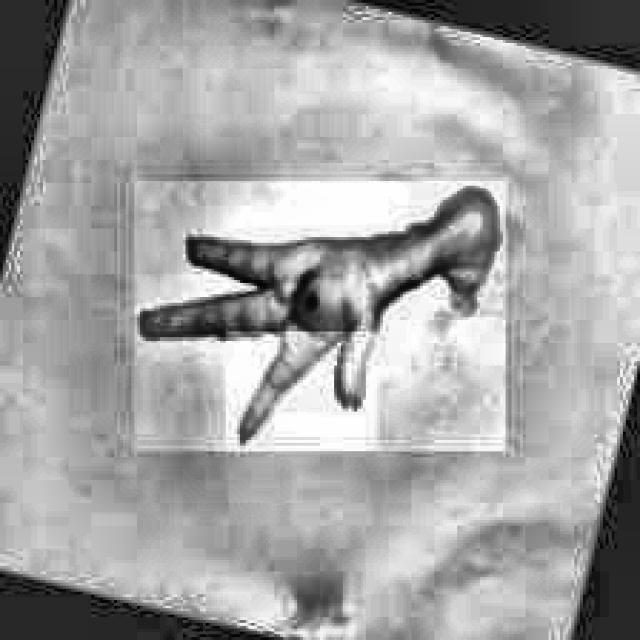Bumble foot: (134, 180, 503, 446)
